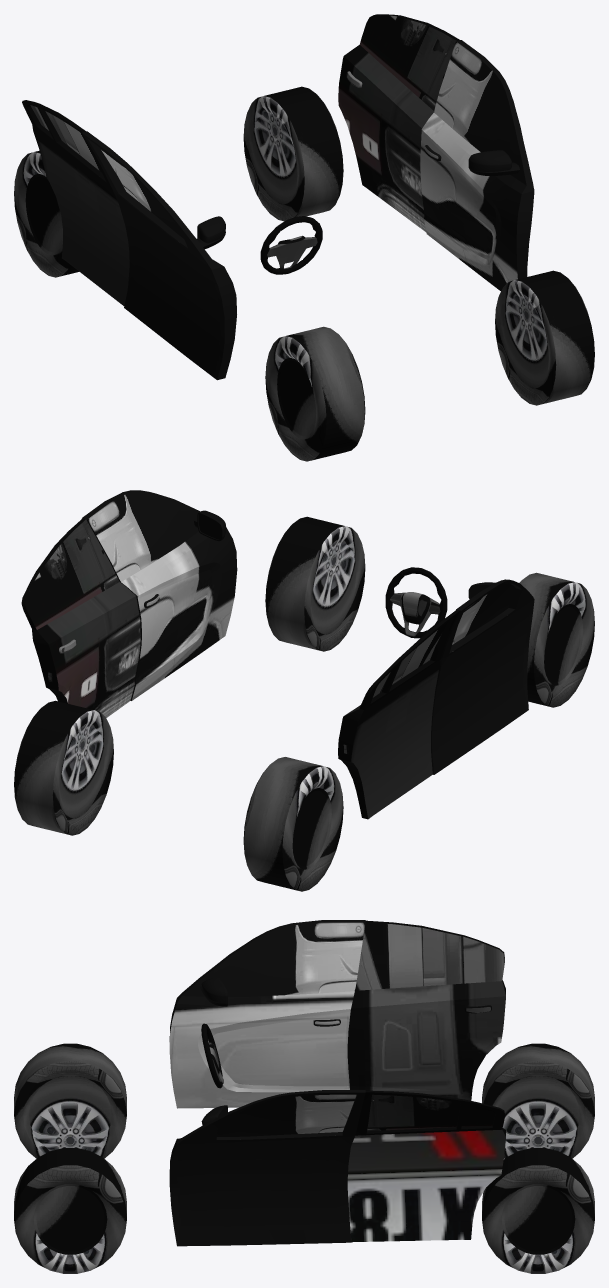
File: Car_Sports.glb
3 renders of one model, top to bottom at view 1: azimuth 30°, elevation 25°; view 2: azimuth 150°, elevation 25°; view 3: azimuth 270°, elevation 25°, orthographic. The views are drawn at different scales.
Parts seen in each view (by area): view 1: Car_Sports; view 2: Car_Sports; view 3: Car_Sports.
Part boxes in pixels (x1,y1,x2,y2): Car_Sports: (14, 14, 594, 461); Car_Sports: (14, 490, 594, 891); Car_Sports: (14, 920, 594, 1273).
Size of the model in its own units: 20.56 by 11.49 by 29.26.
Materials: 4 (4 with a texture image).
